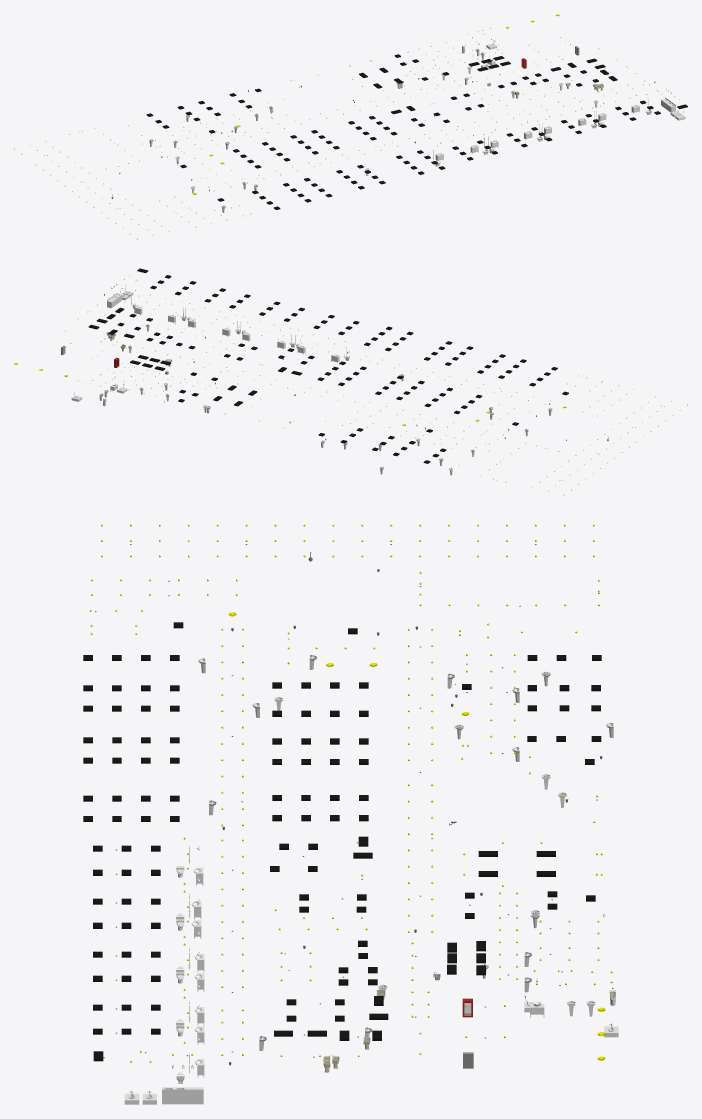
The model's file is F3_shebei.glb.
3 renders of one model, top to bottom at view 1: azimuth 30°, elevation 25°; view 2: azimuth 150°, elevation 25°; view 3: azimuth 270°, elevation 25°, orthographic. The views are drawn at different scales.
Size of the model in its own units: 79.67 by 3.08 by 33.32.
